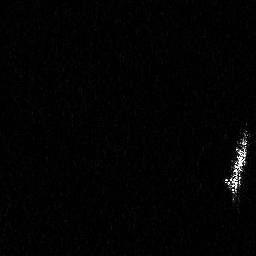ship: (223, 124, 250, 212)
